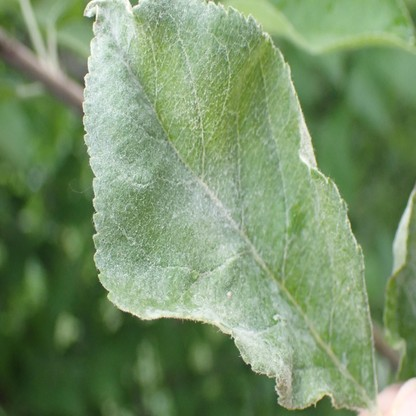powder: (83, 1, 377, 410)
